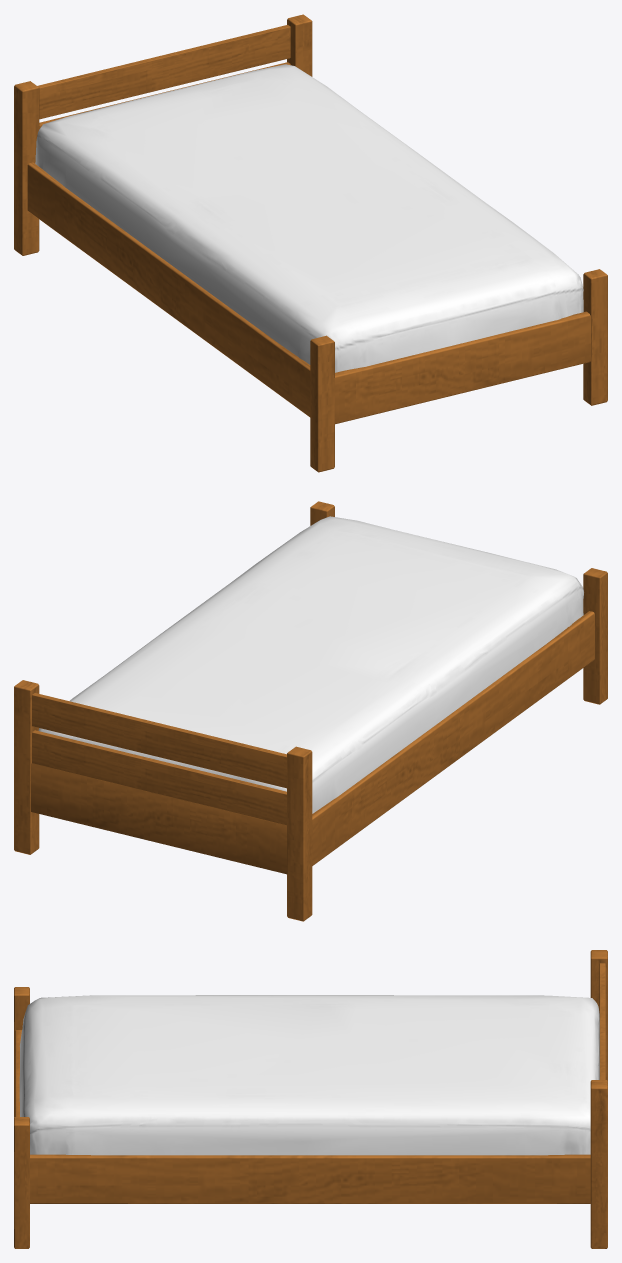
The model's file is bed_single_wood.glb.
3 renders of one model, top to bottom at view 1: azimuth 30°, elevation 25°; view 2: azimuth 150°, elevation 25°; view 3: azimuth 270°, elevation 25°, orthographic. The views are drawn at different scales.
Visible parts, largest first — view 1: bed_mattress_26_1, bed_26_1; view 2: bed_mattress_26_1, bed_26_1; view 3: bed_mattress_26_1, bed_26_1.
Boxes of the visible parts, x1,y1,x2,y2 form: bed_mattress_26_1: [35, 64, 583, 372]; bed_26_1: [14, 14, 607, 472]; bed_mattress_26_1: [38, 516, 583, 813]; bed_26_1: [14, 501, 607, 921]; bed_mattress_26_1: [19, 995, 599, 1155]; bed_26_1: [14, 950, 607, 1248].
Bounding box in the file's own units: 1.3 × 0.7065 × 2.35.
2 materials, 2 textured.
